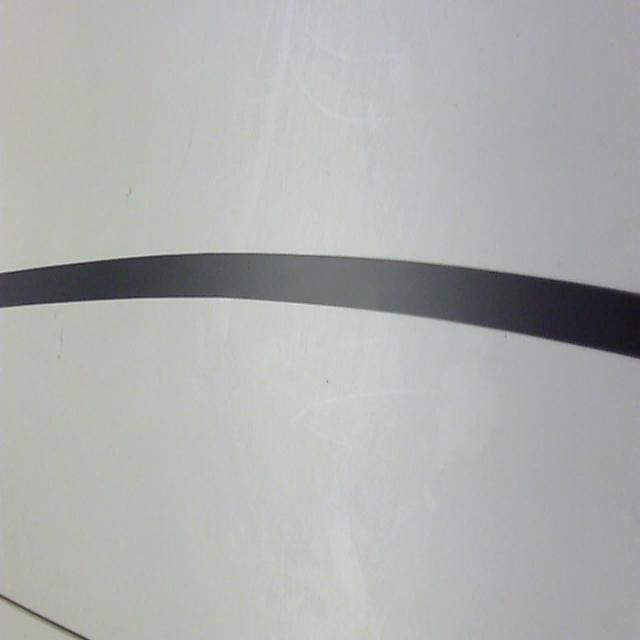tape: (0, 233, 640, 380)
